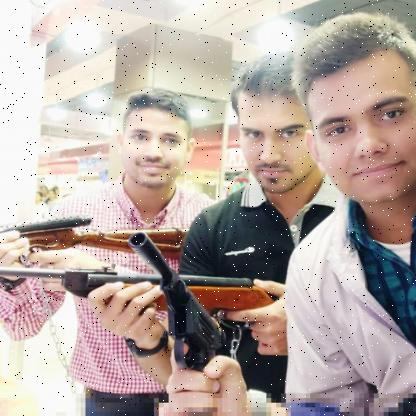rifle: (127, 230, 233, 416), (0, 264, 279, 318), (0, 212, 194, 263)
